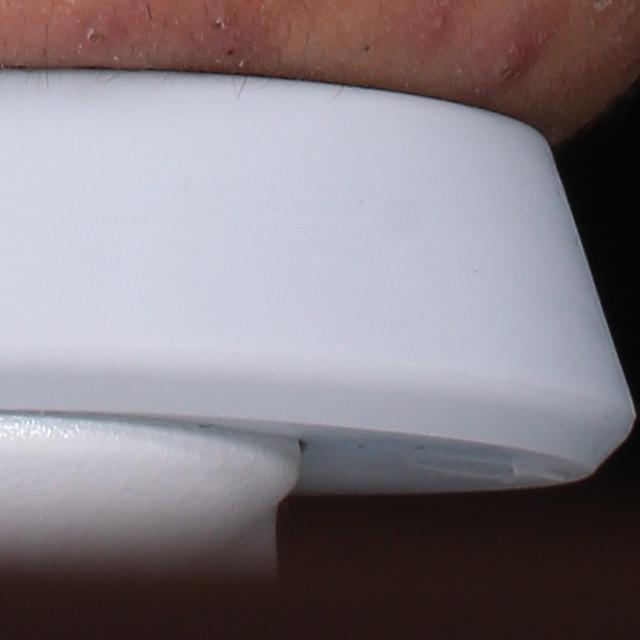comedo: (84, 23, 107, 44), (209, 16, 231, 33)
papule: (470, 26, 542, 87)
